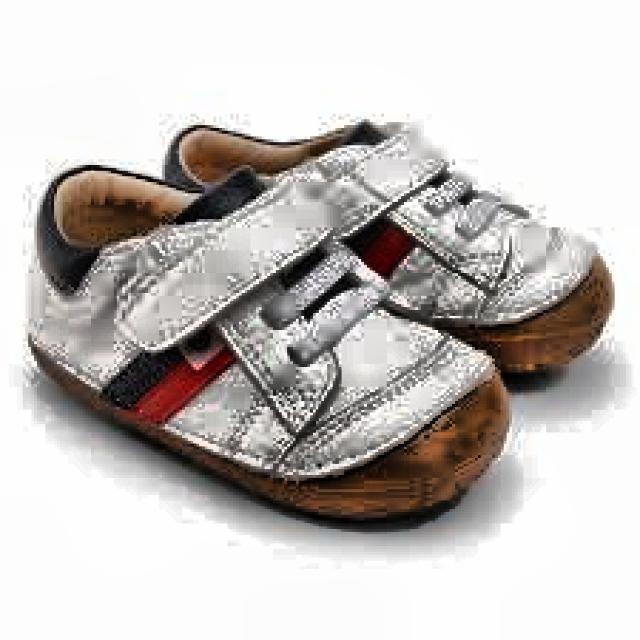shoes: (40, 112, 602, 518)
